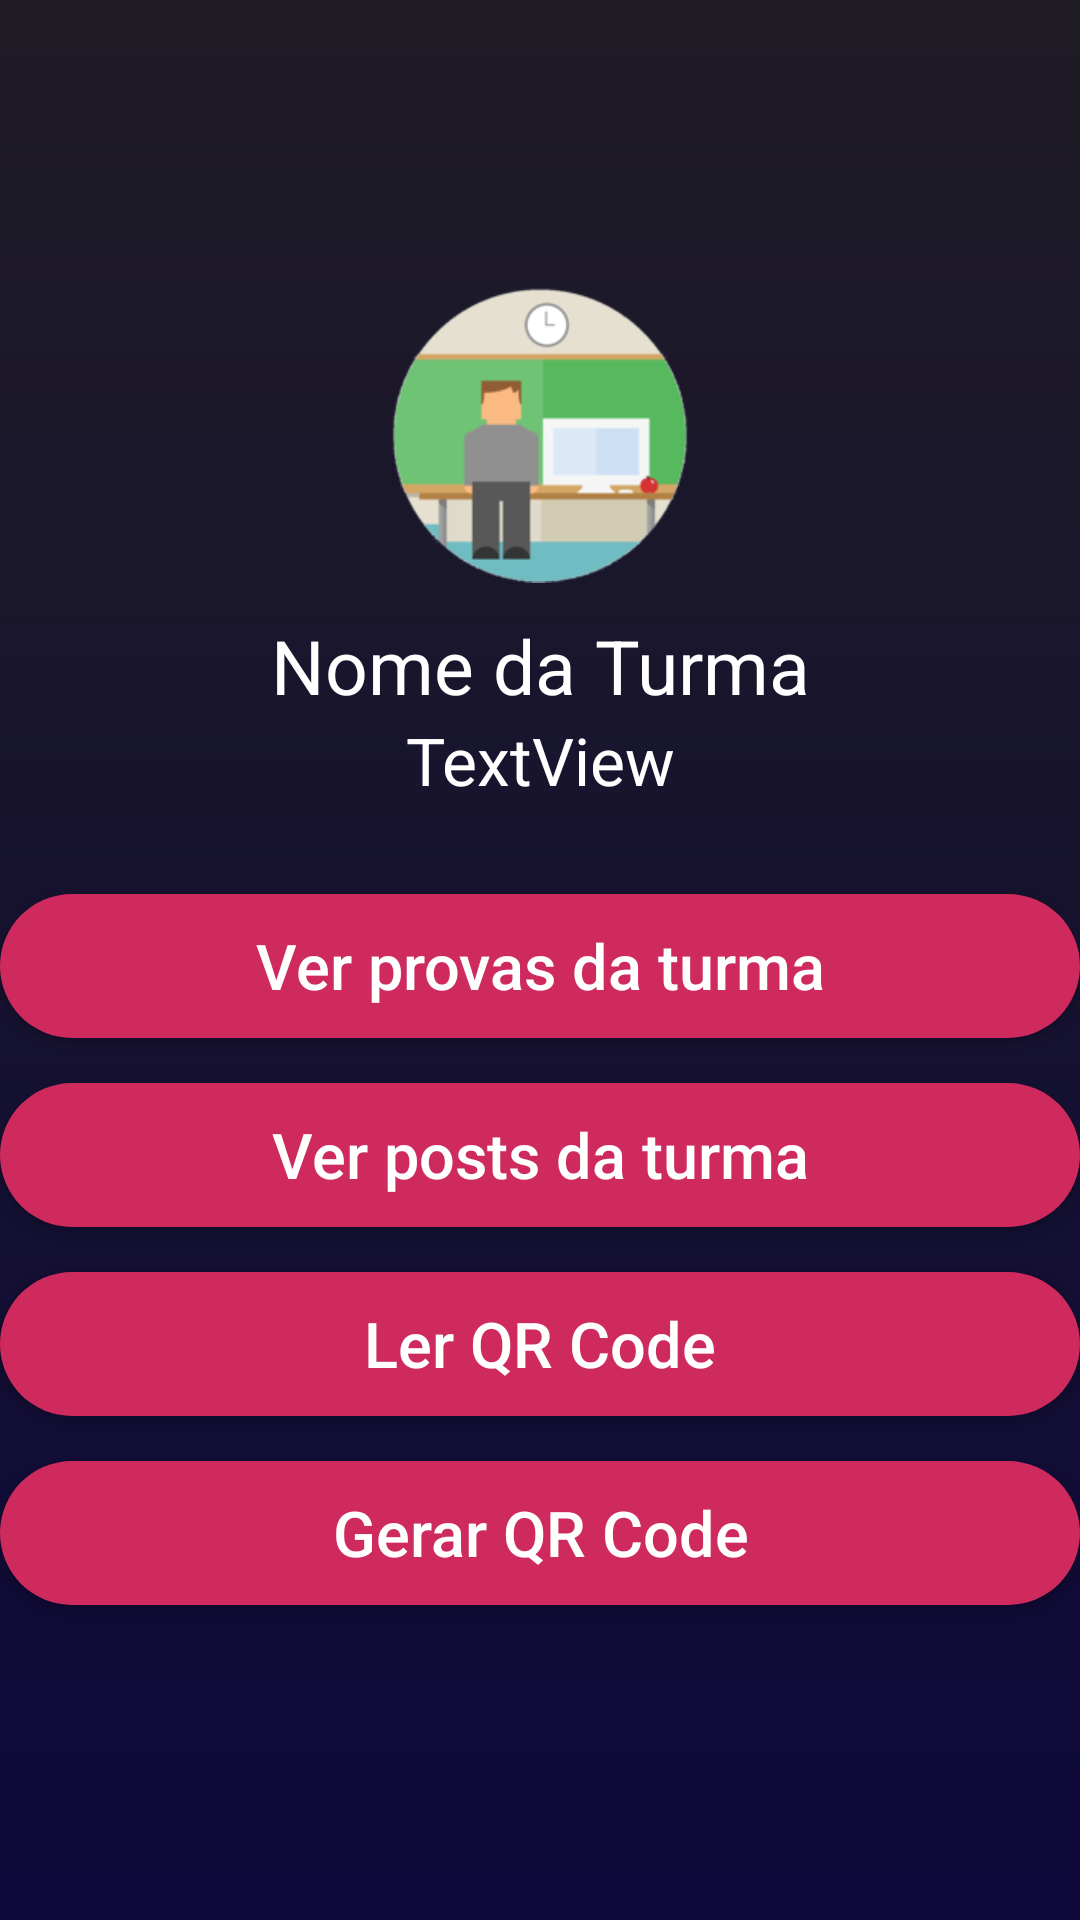

Icons on this 1080x1920 Android screen, each with its box as [x1,y1,x2,y2]:
sala: [393,288,687,583]
